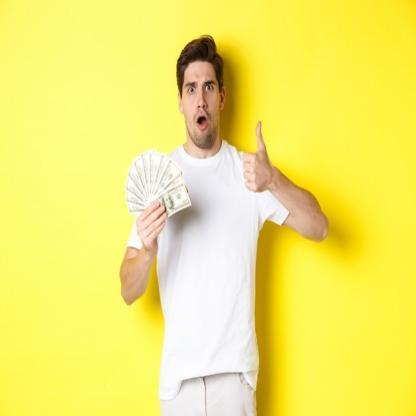thumb_up: (239, 116, 273, 198)
